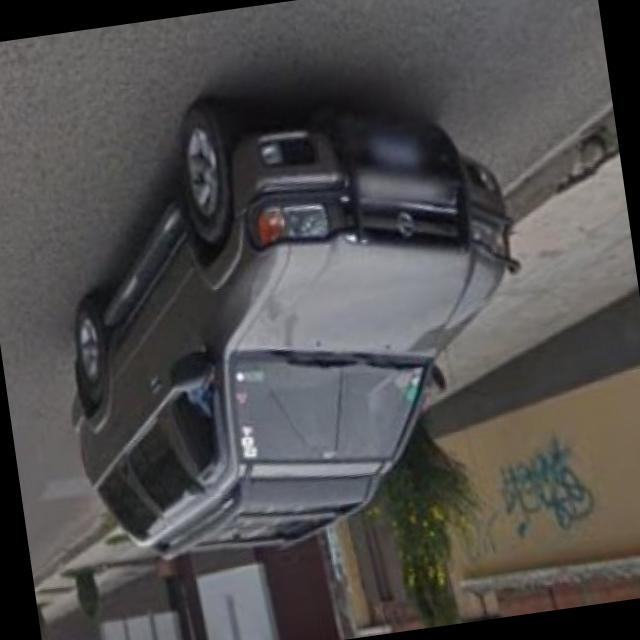car: (31, 64, 550, 576)
